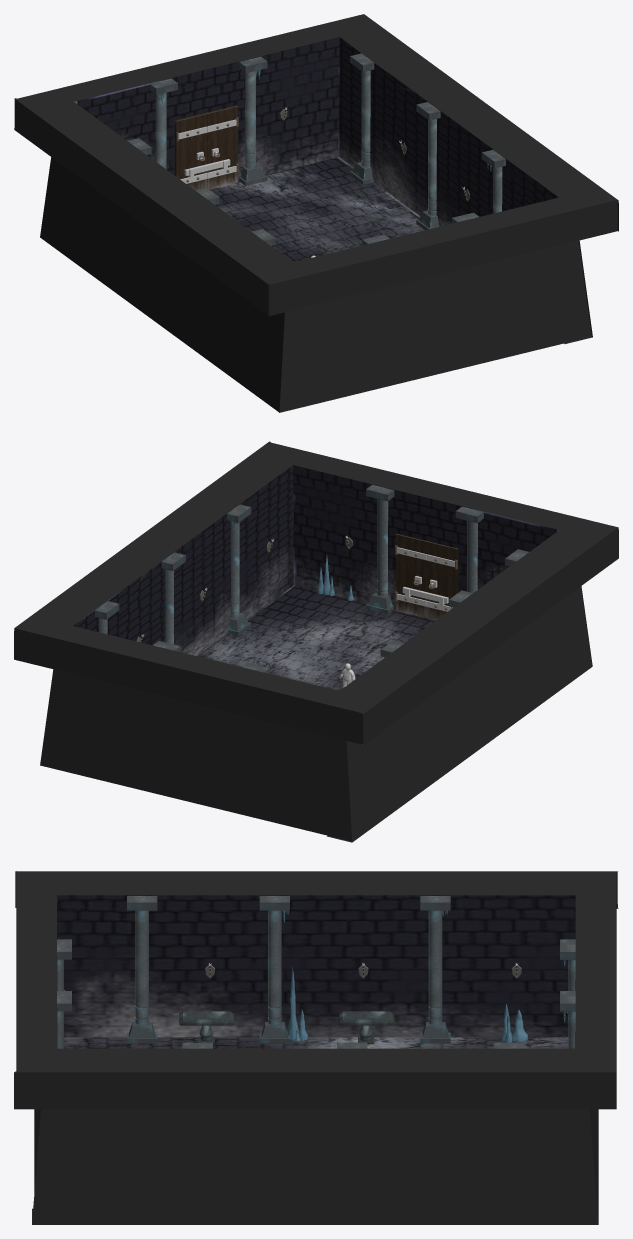
File: Salle tuto .FBX
The picture shows the model from 3 angles, top to bottom: view 1: azimuth 30°, elevation 25°; view 2: azimuth 150°, elevation 25°; view 3: azimuth 270°, elevation 25°; orthographic projection. The views are drawn at different scales.
Visible parts, largest first — view 1: Mur 008, Mur 007, Mur 005, Mur 006, Sol001, Object050, Box456; view 2: Mur 006, Mur 007, Mur 005, Mur 008, Sol001, Box457, Object048; view 3: Mur 005, Mur 007, Mur 006, Mur 008, Sol001, Box458, Box459, Group43211, Group43207.
Part boxes in pixels (x1,y1,x2,y2): Mur 008: (268,197,617,412); Mur 007: (14,98,292,412); Mur 005: (339,14,618,343); Mur 006: (15,14,363,185); Sol001: (210,157,424,262); Object050: (206,105,238,189); Box456: (175,113,207,190); Mur 006: (14,626,363,841); Mur 007: (327,527,618,842); Mur 005: (14,441,293,655); Mur 008: (269,442,618,666); Sol001: (197,585,435,690); Box457: (395,533,426,618); Object048: (426,541,458,620); Mur 005: (14,1042,616,1224); Mur 007: (15,871,618,1043); Mur 006: (560,871,616,1224); Mur 008: (16,871,71,1192); Sol001: (64,1037,568,1048); Box458: (179,1011,234,1044); Box459: (339,1011,393,1044); Group43211: (288,966,307,1040); Group43207: (501,1003,527,1042).
Size of the model in its own units: 1454 by 549 by 1845.
